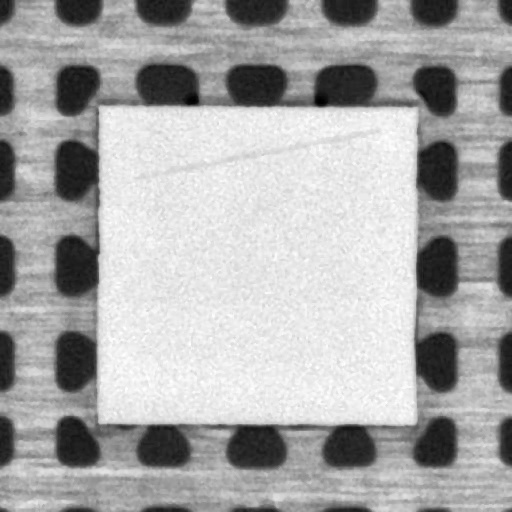DIE_CRACK: (132, 130, 376, 177)
